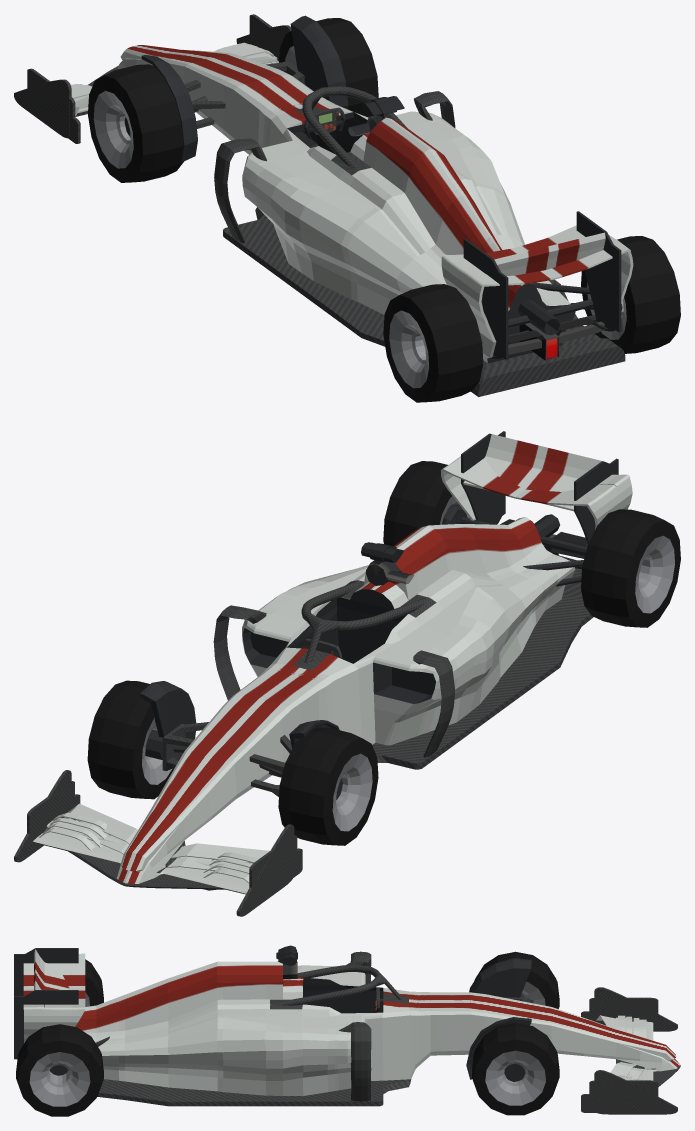
Rendered from Formulaonecar.fbx.
3 views of the same model, one above another, from view 1: azimuth 30°, elevation 25°; view 2: azimuth 150°, elevation 25°; view 3: azimuth 270°, elevation 25° (orthographic). The views are drawn at different scales.
Visible parts, largest first — view 1: Main_body.COmmiting, Wheel.002, Wheel, Spoiler, Wheel.003, Spoiler_2, Wheel.001, Front_Wing2.001, Wheel_Holder.002, Front_Spoiler, Wheel_Holder_rear, Halo (+7 smaller); view 2: Main_body.COmmiting, Wheel.002, Wheel, Front_Wing2.001, Wheel.001, Front_Wing3, Spoiler, Spoiler_2, Front_Spoiler, Wheel.003, Halo, Spoiler.002 (+3 smaller); view 3: Main_body.COmmiting, Wheel.003, Wheel.001, Front_Wing2.001, Spoiler, Front_Wing3, Front_Spoiler, Spoiler_2, Halo, Wheel_Holder, Wheel, Wheel_Holder.002 (+4 smaller).
Boxes of the visible parts, left/top/right/bottom form: Main_body.COmmiting: left=150, top=49, right=625, bottom=396; Wheel.002: left=383, top=284, right=483, bottom=402; Wheel: left=88, top=64, right=183, bottom=182; Spoiler: left=463, top=211, right=621, bottom=359; Wheel.003: left=581, top=236, right=680, bottom=353; Spoiler_2: left=441, top=225, right=633, bottom=360; Wheel.001: left=279, top=18, right=378, bottom=117; Front_Wing2.001: left=14, top=25, right=291, bottom=138; Wheel_Holder.002: left=290, top=15, right=348, bottom=109; Front_Spoiler: left=27, top=14, right=283, bottom=143; Wheel_Holder_rear: left=508, top=282, right=622, bottom=360; Halo: left=294, top=86, right=406, bottom=175; Main_body.COmmiting: left=150, top=517, right=593, bottom=839; Wheel.002: left=581, top=509, right=680, bottom=627; Wheel: left=278, top=727, right=378, bottom=845; Front_Wing2.001: left=14, top=770, right=294, bottom=916; Wheel.001: left=87, top=680, right=174, bottom=799; Front_Wing3: left=64, top=803, right=269, bottom=889; Spoiler: left=461, top=431, right=618, bottom=558; Spoiler_2: left=441, top=456, right=632, bottom=555; Front_Spoiler: left=27, top=781, right=302, bottom=894; Wheel.003: left=383, top=461, right=469, bottom=545; Halo: left=293, top=580, right=436, bottom=670; Spoiler.002: left=485, top=434, right=601, bottom=478; Main_body.COmmiting: left=75, top=951, right=616, bottom=1106; Wheel.003: left=16, top=1024, right=103, bottom=1116; Wheel.001: left=472, top=1022, right=559, bottom=1115; Front_Wing2.001: left=594, top=987, right=677, bottom=1114; Spoiler: left=14, top=948, right=78, bottom=1059; Front_Wing3: left=596, top=1000, right=680, bottom=1109; Front_Spoiler: left=581, top=997, right=658, bottom=1112; Spoiler_2: left=24, top=953, right=85, bottom=1043; Halo: left=270, top=964, right=408, bottom=1009; Wheel_Holder: left=469, top=958, right=531, bottom=997; Wheel: left=474, top=951, right=559, bottom=1008; Wheel_Holder.002: left=466, top=1017, right=531, bottom=1081.
Bounding box in the file's own units: 1.86 × 5.73 × 1.16.
